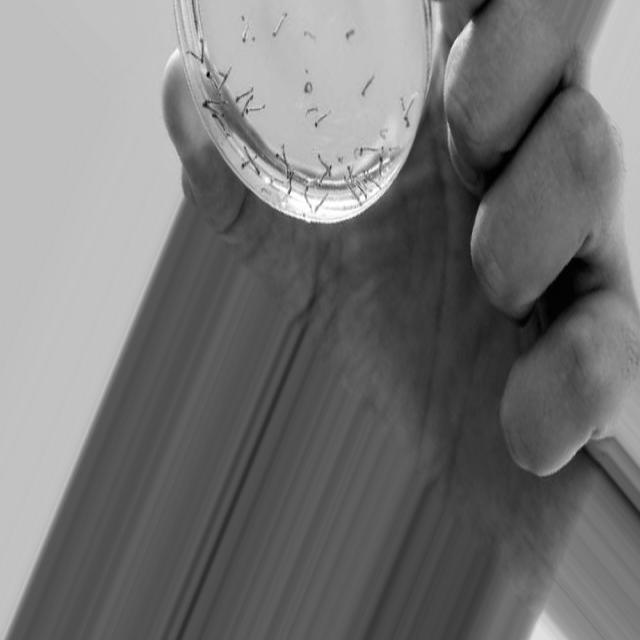larvas: (243, 142, 262, 179), (206, 70, 225, 101), (344, 176, 363, 207), (239, 91, 256, 120), (313, 106, 331, 129), (210, 113, 228, 136), (203, 102, 226, 120), (242, 14, 252, 43), (368, 176, 384, 194), (314, 192, 329, 211), (274, 14, 286, 36), (360, 75, 372, 97), (245, 104, 267, 115), (237, 86, 254, 100), (276, 153, 290, 170), (356, 182, 369, 200), (401, 95, 408, 127), (221, 69, 231, 89), (320, 165, 331, 183), (360, 146, 378, 156), (240, 156, 252, 171), (305, 185, 311, 210), (405, 98, 413, 116), (200, 38, 206, 62), (319, 154, 328, 170), (347, 166, 354, 185), (187, 47, 198, 59), (204, 98, 225, 104), (304, 30, 315, 41), (378, 158, 384, 178), (306, 105, 318, 115), (270, 177, 286, 184), (304, 82, 312, 95), (282, 144, 288, 161), (288, 174, 293, 194), (346, 29, 354, 41), (380, 129, 388, 139), (261, 188, 271, 194), (388, 146, 402, 150), (354, 147, 358, 158)
